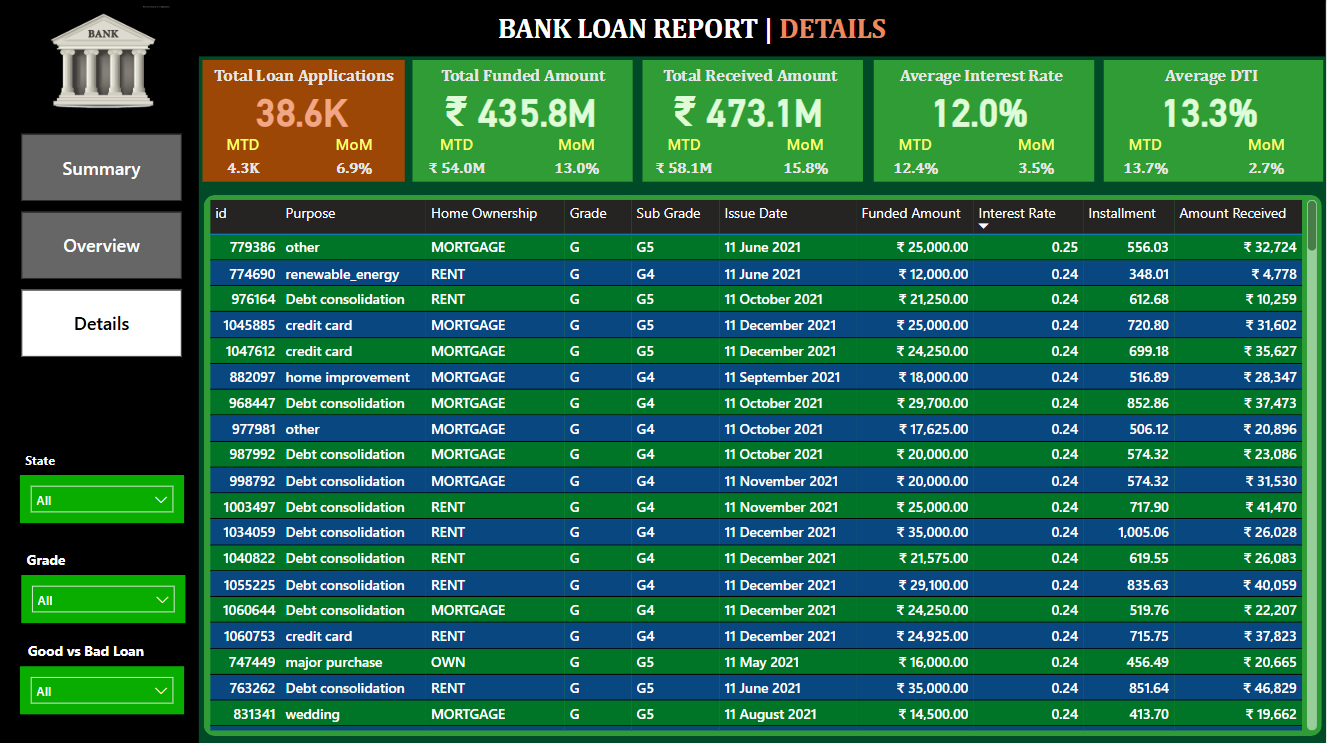

Layout of this report page (visuals, bound fields, positions):
{"tool":"powerbi","page":{"name":"Details","canvas":[1280,720],"ordinal":2},"visuals":[{"type":"shape","box":[0,48.8,191.9,670.9],"z":0},{"type":"shape","box":[195.4,58.1,195.3,117.4],"z":0,"group":"g1"},{"type":"shape","box":[398.2,58.1,212.5,117.4],"z":0,"group":"g2"},{"type":"shape","box":[620.3,58.1,212.8,117.4],"z":0,"group":"g3"},{"type":"shape","box":[842.6,58.1,212.8,117.4],"z":0,"group":"g4"},{"type":"shape","box":[1064.9,58.1,212.8,117.4],"z":0,"group":"g5"},{"type":"card","fields":{"Values":["bank_loan_data.Total Loan Applications"]},"box":[191.9,76.7,198.8,59.3],"z":1000,"group":"g1"},{"type":"card","fields":{"Values":["bank_loan_data.Total Funded Amount"]},"box":[394.4,76.7,216.3,59.3],"z":1000,"group":"g2"},{"type":"card","fields":{"Values":["bank_loan_data.Total Amount Received"]},"box":[614.5,76.7,216.3,59.3],"z":1000,"group":"g3"},{"type":"card","fields":{"Values":["bank_loan_data.Avg Interest Rate"]},"box":[836.8,76.7,216.3,59.3],"z":1000,"group":"g4"},{"type":"card","fields":{"Values":["bank_loan_data.Avg DTI"]},"box":[1059.1,76.7,216.3,59.3],"z":1000,"group":"g5"},{"type":"shape","box":[196.5,188.4,1079.1,522.1],"z":1000},{"type":"shape","box":[0,0,1280,54.7],"z":2000},{"type":"textbox","box":[195.4,58.1,195.3,37.2],"z":2000,"group":"g1"},{"type":"textbox","box":[398.2,58.1,212.5,37.2],"z":2000,"group":"g2"},{"type":"textbox","box":[618.3,58.1,212.5,37.2],"z":2000,"group":"g3"},{"type":"textbox","box":[840.6,58.1,212.5,37.2],"z":2000,"group":"g4"},{"type":"textbox","box":[1062.9,58.1,212.5,37.2],"z":2000,"group":"g5"},{"type":"textbox","box":[475.6,5.8,438.4,43],"z":3000},{"type":"card","title":"MTD","fields":{"Values":["bank_loan_data.MTD Loan Applications"]},"box":[195.4,129,77.9,46.5],"z":3000,"group":"g1"},{"type":"card","title":"MTD","fields":{"Values":["bank_loan_data.MTD Funded Amount"]},"box":[398.2,129,84.7,46.5],"z":3000,"group":"g2"},{"type":"card","title":"MTD","fields":{"Values":["bank_loan_data.MTD Total Amount Received"]},"box":[618.3,129,84.7,46.5],"z":3000,"group":"g3"},{"type":"card","title":"MTD","fields":{"Values":["bank_loan_data.MTD Avg Interest Rate"]},"box":[840.6,129,84.7,46.5],"z":3000,"group":"g4"},{"type":"card","title":"MTD","fields":{"Values":["bank_loan_data.MTD Avg DTI"]},"box":[1062.9,129,84.7,46.5],"z":3000,"group":"g5"},{"type":"group","id":"g1","title":"Group 1","box":[191.9,58.1,198.8,117.4],"z":4000},{"type":"card","title":"MoM","fields":{"Values":["bank_loan_data.MoM Loan Applications"]},"box":[302.4,129,77.9,46.5],"z":4000,"group":"g1"},{"type":"card","title":"MoM","fields":{"Values":["bank_loan_data.MoM Total Funded Amount"]},"box":[514.2,129,84.9,46.5],"z":4000,"group":"g2"},{"type":"card","title":"MoM","fields":{"Values":["bank_loan_data.MoM Total Amount Received"]},"box":[734.7,129,84.7,46.5],"z":4000,"group":"g3"},{"type":"card","title":"MoM","fields":{"Values":["bank_loan_data.MoM Avg Interest Rate"]},"box":[957,129,84.7,46.5],"z":4000,"group":"g4"},{"type":"card","title":"MoM","fields":{"Values":["bank_loan_data.MoM Avg DTI"]},"box":[1179.3,129,84.7,46.5],"z":4000,"group":"g5"},{"type":"group","id":"g2","title":"Group 1","box":[394.4,58.1,216.3,117.4],"z":5000},{"type":"group","id":"g3","title":"Group 1","box":[614.5,58.1,218.6,117.4],"z":6000},{"type":"group","id":"g4","title":"Group 1","box":[836.8,58.1,218.6,117.4],"z":7000},{"type":"group","id":"g5","title":"Group 1","box":[1059.1,58.1,218.6,117.4],"z":8000},{"type":"slicer","fields":{"Values":["bank_loan_data.address_state"]},"box":[19.8,458.1,158.1,46.5],"z":9000},{"type":"textbox","box":[19.8,429.1,75.6,29.1],"z":10000},{"type":"slicer","fields":{"Values":["bank_loan_data.grade"]},"box":[20.9,554.7,158.1,46.5],"z":11000},{"type":"textbox","box":[20.9,525.6,75.6,29.1],"z":12000},{"type":"slicer","fields":{"Values":["bank_loan_data.Good vs Bad Loan"]},"box":[19.1,643.3,158.1,46.5],"z":13000},{"type":"textbox","box":[22.1,614,139.5,29.1],"z":14000},{"type":"tableEx","fields":{"Values":["bank_loan_data.id","bank_loan_data.purpose","bank_loan_data.home_ownership","bank_loan_data.grade","bank_loan_data.sub_grade","bank_loan_data.issue_date","bank_loan_data.Total Funded Amount","Sum(bank_loan_data.int_rate)","Sum(bank_loan_data.installment)","bank_loan_data.Total Amount Received"]},"box":[196.5,188.4,1079.1,522.1],"z":15000},{"type":"pageNavigator","box":[20.9,129.1,155.8,217.4],"z":16000},{"type":"image","box":[20.9,1.2,155.8,115.1],"z":17000}]}

Visuals, with their boxes in screenshot pixels (x1, y1, x2, y2), scaled from the page's 1280x720 canvas onto the 1327x743 screenshot:
shape: l=0, t=50, r=199, b=742
shape: l=203, t=60, r=405, b=181
shape: l=413, t=60, r=633, b=181
shape: l=643, t=60, r=864, b=181
shape: l=874, t=60, r=1094, b=181
shape: l=1104, t=60, r=1325, b=181
card - bank_loan_data.Total Loan Applications: l=199, t=79, r=405, b=140
card - bank_loan_data.Total Funded Amount: l=409, t=79, r=633, b=140
card - bank_loan_data.Total Amount Received: l=637, t=79, r=861, b=140
card - bank_loan_data.Avg Interest Rate: l=868, t=79, r=1092, b=140
card - bank_loan_data.Avg DTI: l=1098, t=79, r=1322, b=140
shape: l=204, t=194, r=1322, b=733
shape: l=0, t=0, r=1326, b=56
textbox: l=203, t=60, r=405, b=98
textbox: l=413, t=60, r=633, b=98
textbox: l=641, t=60, r=861, b=98
textbox: l=871, t=60, r=1092, b=98
textbox: l=1102, t=60, r=1322, b=98
textbox: l=493, t=6, r=948, b=50
"MTD" card: l=203, t=133, r=283, b=181
"MTD" card: l=413, t=133, r=501, b=181
"MTD" card: l=641, t=133, r=729, b=181
"MTD" card: l=871, t=133, r=959, b=181
"MTD" card: l=1102, t=133, r=1190, b=181
"Group 1" group: l=199, t=60, r=405, b=181
"MoM" card: l=314, t=133, r=394, b=181
"MoM" card: l=533, t=133, r=621, b=181
"MoM" card: l=762, t=133, r=849, b=181
"MoM" card: l=992, t=133, r=1080, b=181
"MoM" card: l=1223, t=133, r=1310, b=181
"Group 1" group: l=409, t=60, r=633, b=181
"Group 1" group: l=637, t=60, r=864, b=181
"Group 1" group: l=868, t=60, r=1094, b=181
"Group 1" group: l=1098, t=60, r=1325, b=181
slicer - bank_loan_data.address_state: l=21, t=473, r=184, b=521
textbox: l=21, t=443, r=99, b=473
slicer - bank_loan_data.grade: l=22, t=572, r=186, b=620
textbox: l=22, t=542, r=100, b=572
slicer - bank_loan_data.Good vs Bad Loan: l=20, t=664, r=184, b=712
textbox: l=23, t=634, r=168, b=664
tableEx - bank_loan_data.id x bank_loan_data.purpose: l=204, t=194, r=1322, b=733
pageNavigator: l=22, t=133, r=183, b=358
image: l=22, t=1, r=183, b=120
